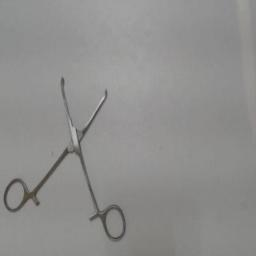Allis Tissue Forceps: (0, 74, 128, 246)
